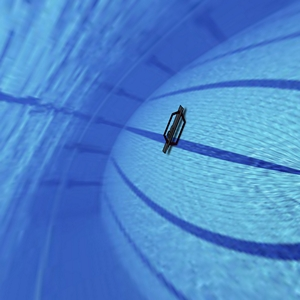submarine: (145, 78, 197, 168)
